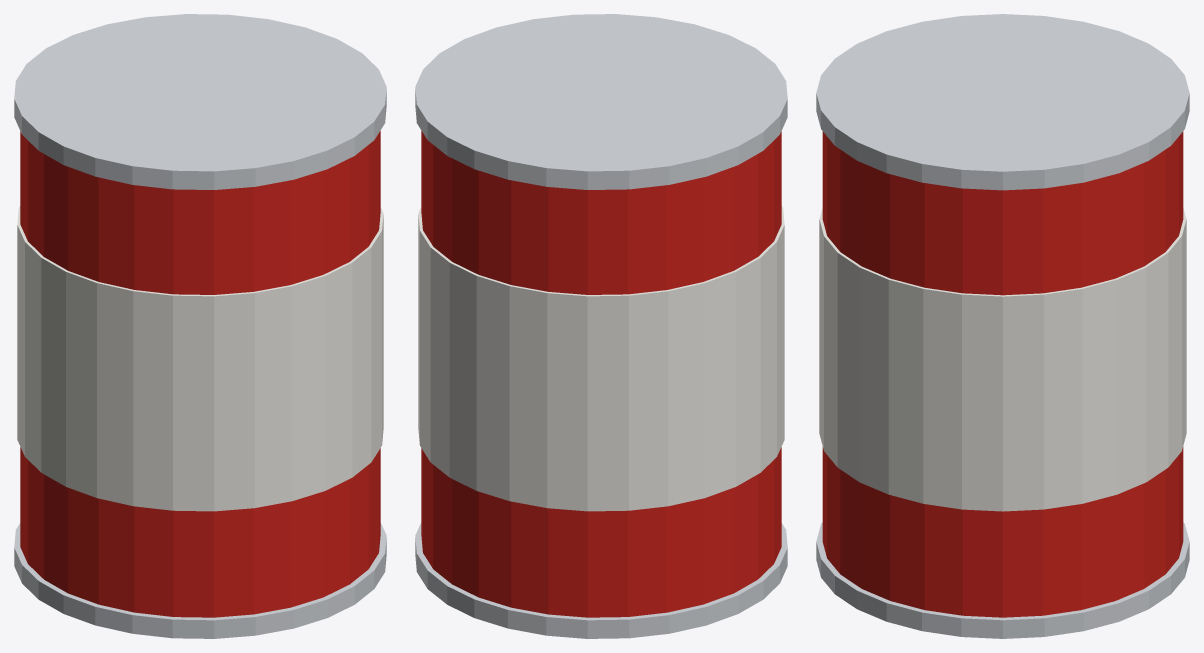
Rendered from inflatable_can.glb.
3 views of the same model, side by side, from view 1: azimuth 30°, elevation 25°; view 2: azimuth 150°, elevation 25°; view 3: azimuth 270°, elevation 25° (orthographic).
Visible parts, largest first — view 1: vinyl_white, vinyl_red, chrome; view 2: vinyl_white, vinyl_red, chrome; view 3: vinyl_white, vinyl_red, chrome.
Boxes of the visible parts, x1,y1,x2,y2 form: vinyl_white: (17,205,383,511); vinyl_red: (20,131,380,617); chrome: (14,14,386,638); vinyl_white: (418,205,784,511); vinyl_red: (421,131,781,617); chrome: (415,14,787,638); vinyl_white: (819,208,1186,511); vinyl_red: (822,131,1183,617); chrome: (816,14,1189,638).
Size of the model in its own units: 0.724 by 1 by 0.724.
